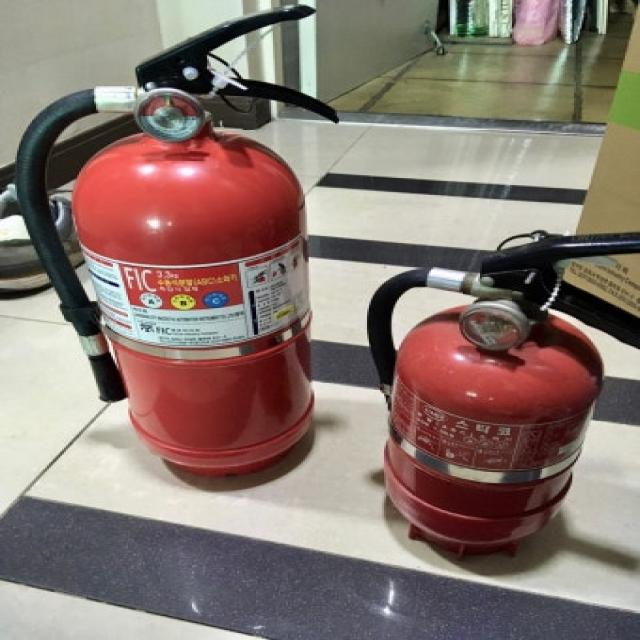pressure gauge: (136, 90, 201, 140), (461, 301, 527, 350)
